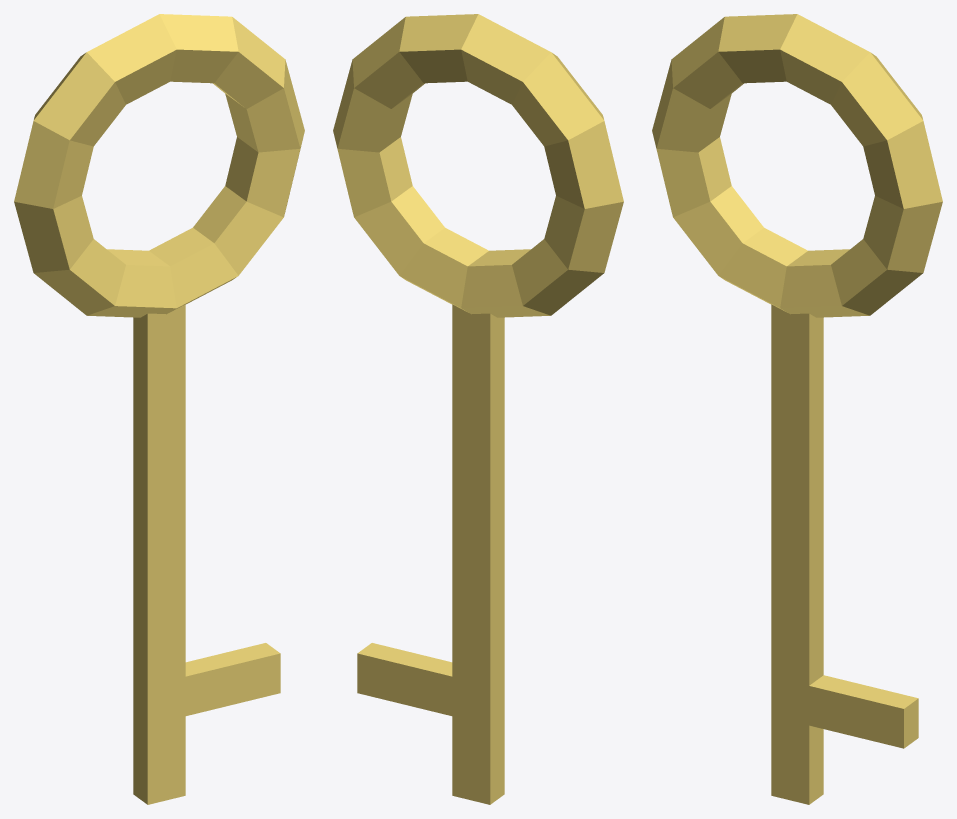
File: llave.glb
3 views of the same model, side by side, from view 1: azimuth 30°, elevation 25°; view 2: azimuth 150°, elevation 25°; view 3: azimuth 330°, elevation 25° (orthographic).
Parts seen in each view (by area): view 1: llave; view 2: llave; view 3: llave.
Part boxes in pixels (x1=…): llave: x1=14, y1=14, x2=304, y2=804; llave: x1=333, y1=14, x2=623, y2=804; llave: x1=652, y1=14, x2=942, y2=804.
Bounding box in the file's own units: 0.46 × 1.18 × 0.0951.
